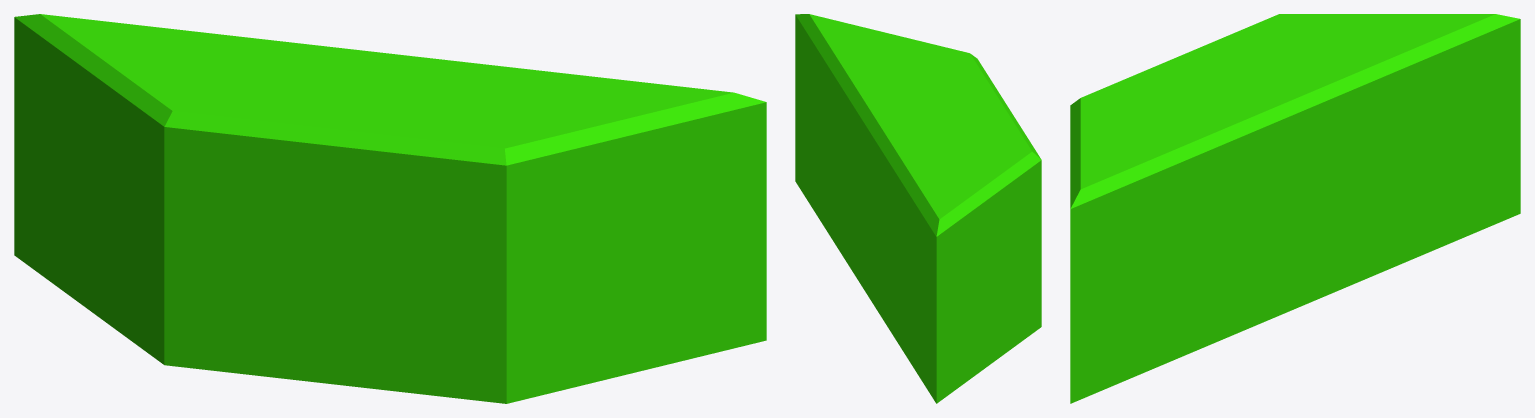
File: diagonal_2x1.fbx
3 renders of one model, left to right at view 1: azimuth 30°, elevation 25°; view 2: azimuth 150°, elevation 25°; view 3: azimuth 270°, elevation 25°, orthographic. The views are drawn at different scales.
Parts seen in each view (by area): view 1: diagonal_2x1; view 2: diagonal_2x1; view 3: diagonal_2x1.
Part boxes in pixels (x1,y1,x2,y2): diagonal_2x1: [14, 14, 766, 403]; diagonal_2x1: [795, 14, 1041, 403]; diagonal_2x1: [1070, 14, 1520, 403].
Bounding box in the file's own units: 220 × 110 × 220.
